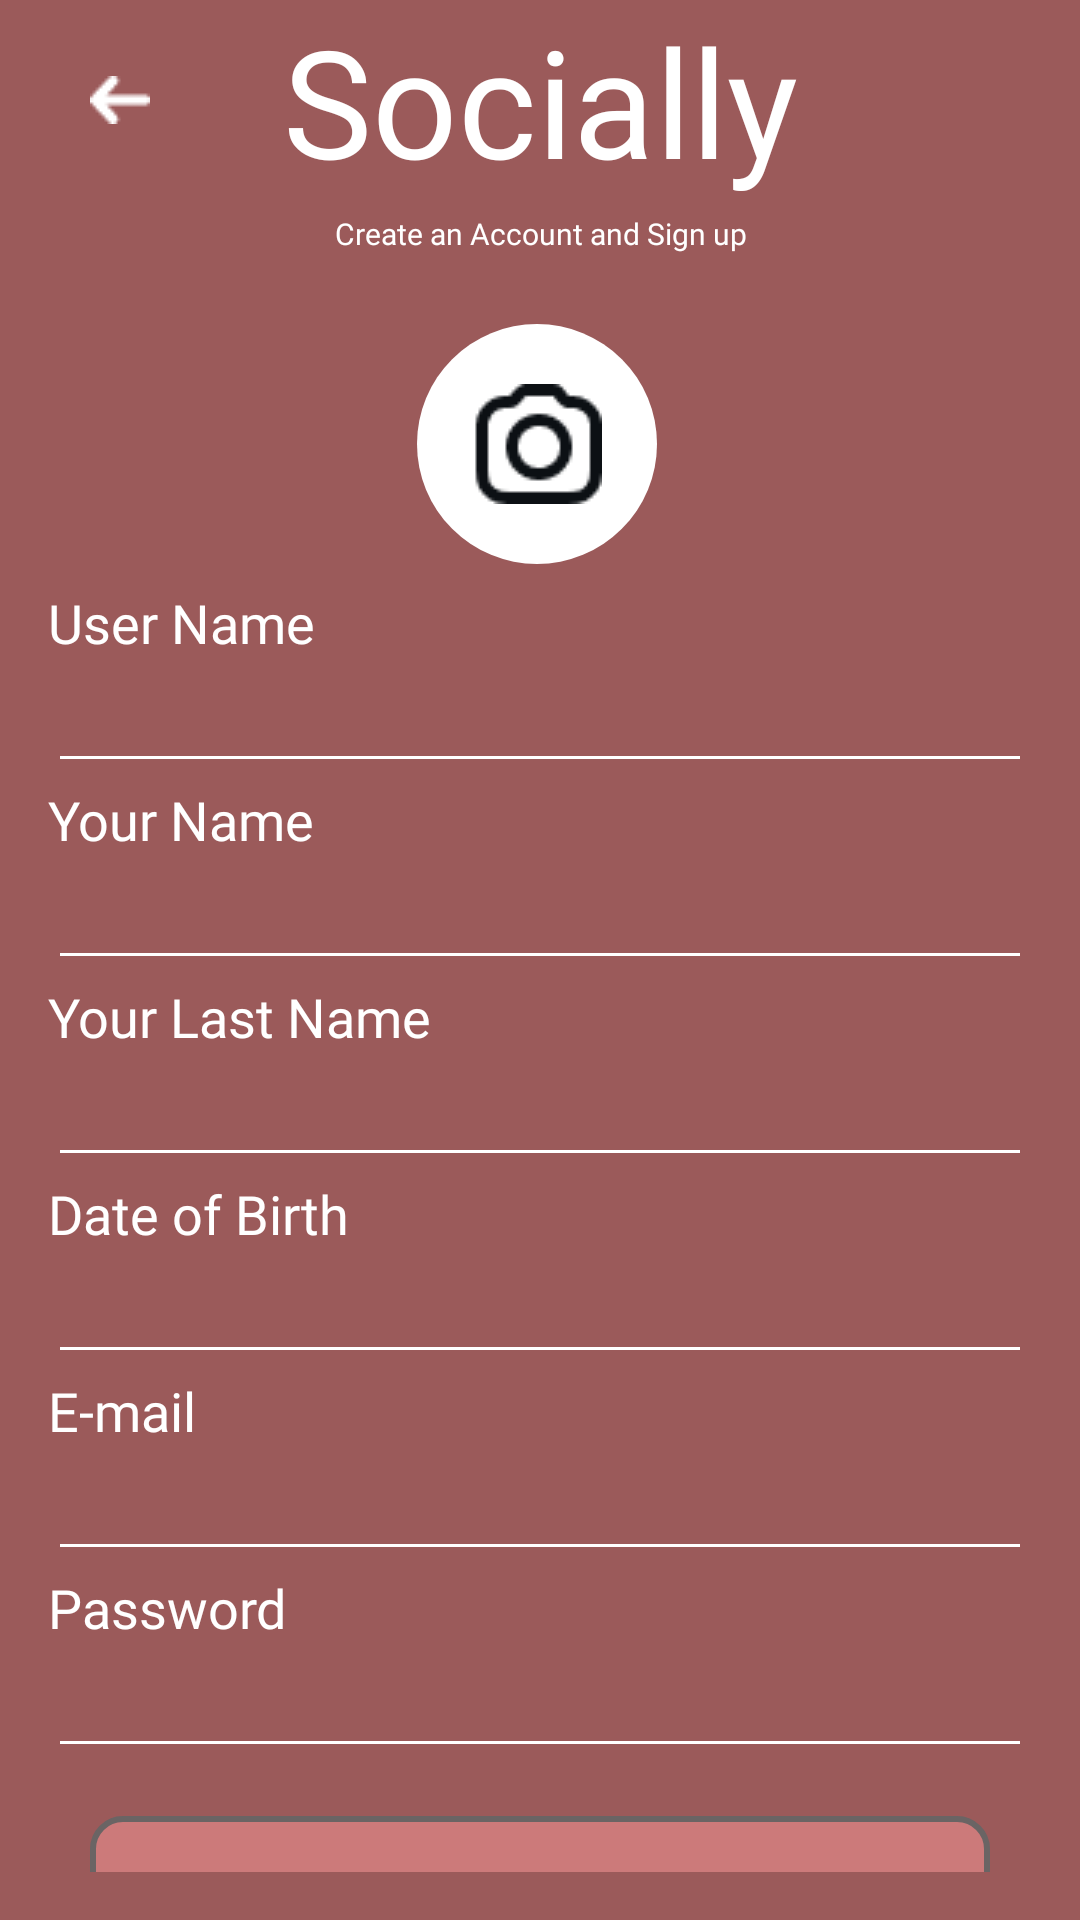

Where icons sit on this 1080 x 1920 app screen, as (x1, y1, x2, y2):
signupimage: (417, 324, 657, 564)
